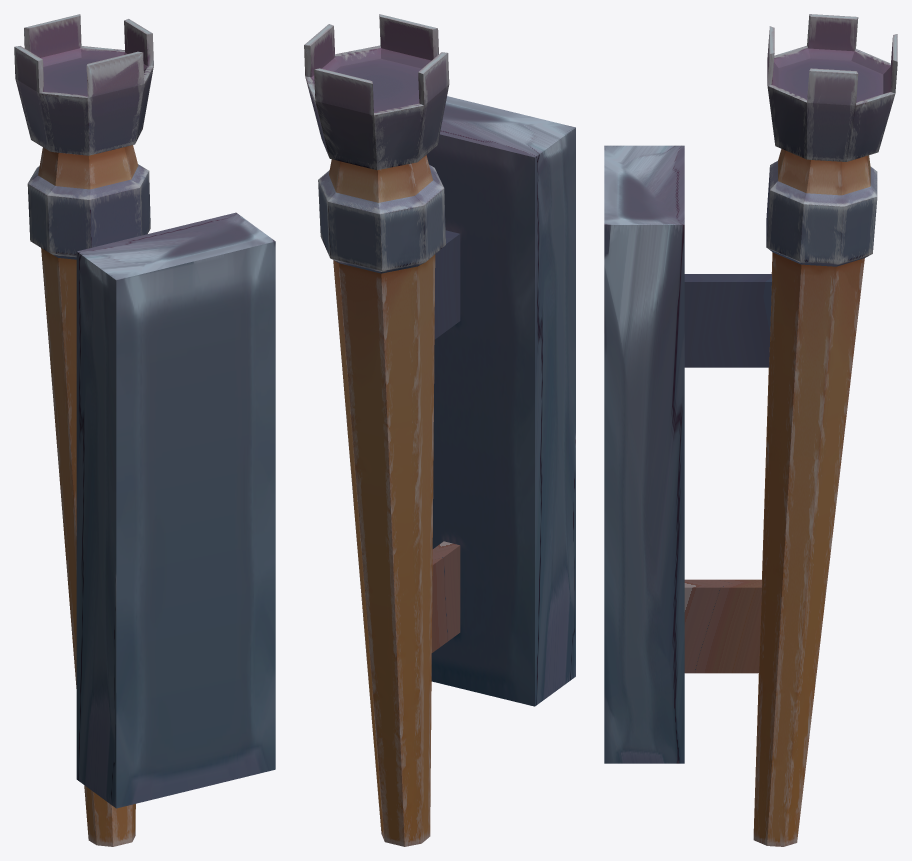
Rendered from torch.glb.
The picture shows the model from 3 angles, left to right: view 1: azimuth 30°, elevation 25°; view 2: azimuth 150°, elevation 25°; view 3: azimuth 270°, elevation 25°; orthographic projection. The views are drawn at different scales.
Visible parts, largest first — view 1: TORCH; view 2: TORCH; view 3: TORCH.
Part boxes in pixels (bbox=[...]): TORCH: bbox=[14, 14, 275, 846]; TORCH: bbox=[304, 14, 575, 846]; TORCH: bbox=[604, 14, 897, 846].
Bounding box in the file's own units: 0.4548 × 2.13 × 0.7109.
Materials: 1 (1 with a texture image).
